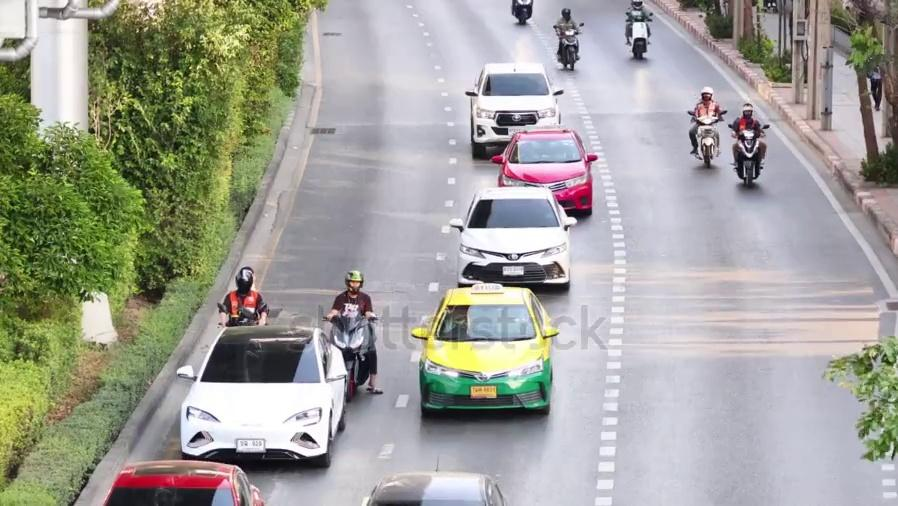person: (868, 66, 882, 111)
rider: (324, 269, 383, 395), (216, 265, 269, 327), (730, 102, 767, 168), (687, 86, 721, 155), (553, 7, 580, 61), (624, 0, 653, 45)
with_helmate: (344, 270, 366, 296), (234, 269, 256, 293), (740, 104, 757, 120), (701, 89, 714, 102), (559, 9, 574, 20), (630, 1, 644, 9)
